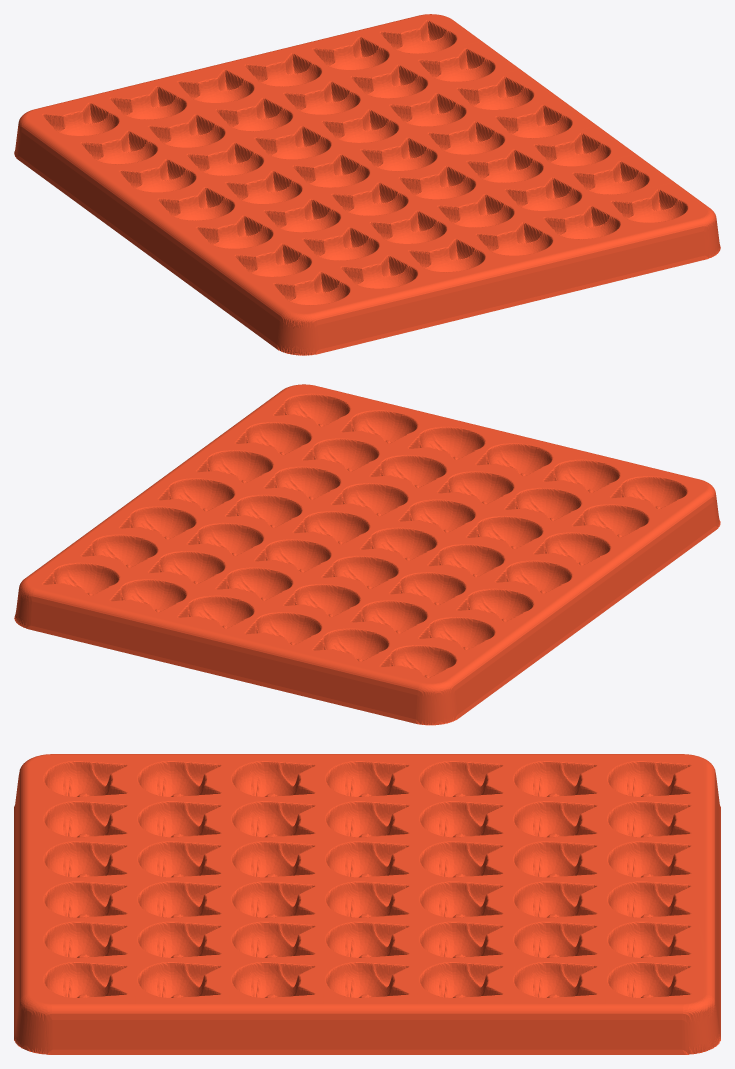
Rendered from mold.glb.
The picture shows the model from 3 angles, top to bottom: view 1: azimuth 30°, elevation 25°; view 2: azimuth 150°, elevation 25°; view 3: azimuth 270°, elevation 25°; orthographic projection. The views are drawn at different scales.
Visible parts, largest first — view 1: geometry_0; view 2: geometry_0; view 3: geometry_0.
Boxes of the visible parts, bbox=[...] form: geometry_0: bbox=[14, 14, 720, 355]; geometry_0: bbox=[14, 384, 720, 725]; geometry_0: bbox=[14, 754, 720, 1054].
Size of the model in its own units: 0.1437 by 0.0114 by 0.1638.
